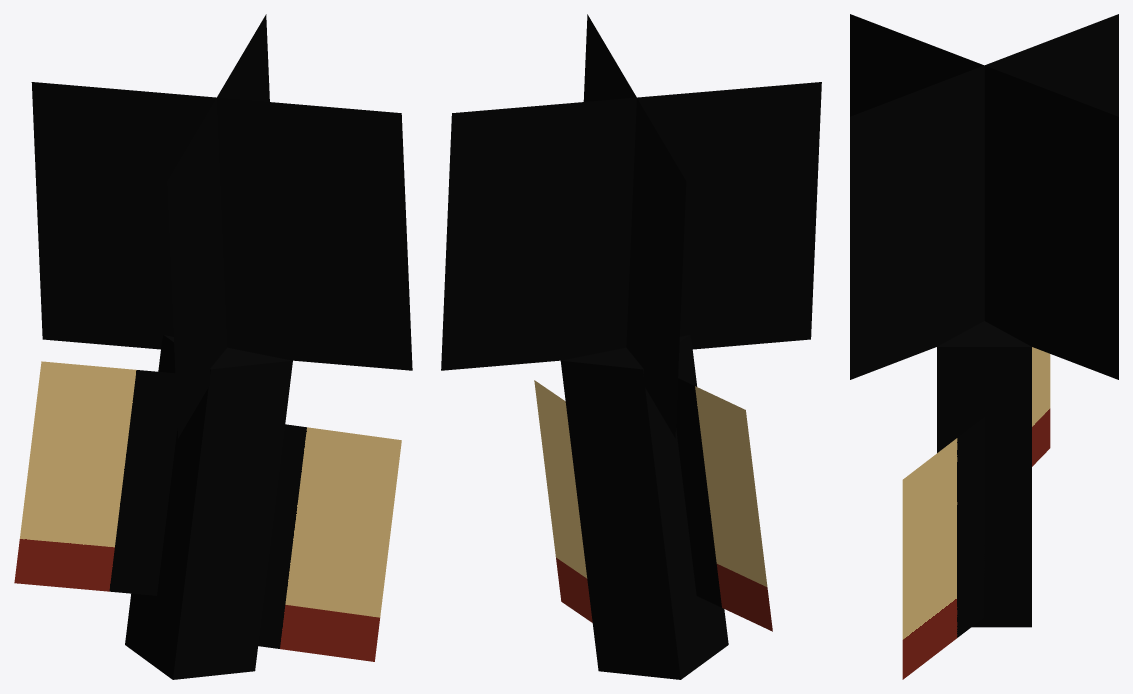
File: nitrite_thorns_stage1.obj
3 renders of one model, left to right at view 1: azimuth 30°, elevation 25°; view 2: azimuth 150°, elevation 25°; view 3: azimuth 270°, elevation 25°, orthographic.
Visible parts, largest first — view 1: cube_2, cube_1, cube_4, cube_5, cube_3; view 2: cube_3, cube_1, cube_2, cube_4, cube_5; view 3: cube_2, cube_3, cube_1, cube_5, cube_4.
Boxes of the visible parts, box(x1,y1,x2,y2) form: cube_2: box(31, 82, 412, 370); cube_1: box(125, 335, 292, 679); cube_4: box(14, 361, 177, 595); cube_5: box(258, 424, 401, 661); cube_3: box(167, 14, 269, 438); cube_3: box(441, 82, 821, 370); cube_1: box(560, 335, 728, 679); cube_2: box(583, 14, 686, 438); cube_4: box(676, 378, 772, 631); cube_5: box(534, 380, 592, 622); cube_2: box(850, 14, 1118, 379); cube_3: box(850, 14, 1118, 379); cube_1: box(937, 321, 1031, 627); cube_5: box(902, 417, 984, 679); cube_4: box(1032, 347, 1050, 466).
Bounding box in the file's own units: 0.4717 × 0.8179 × 0.3536.
